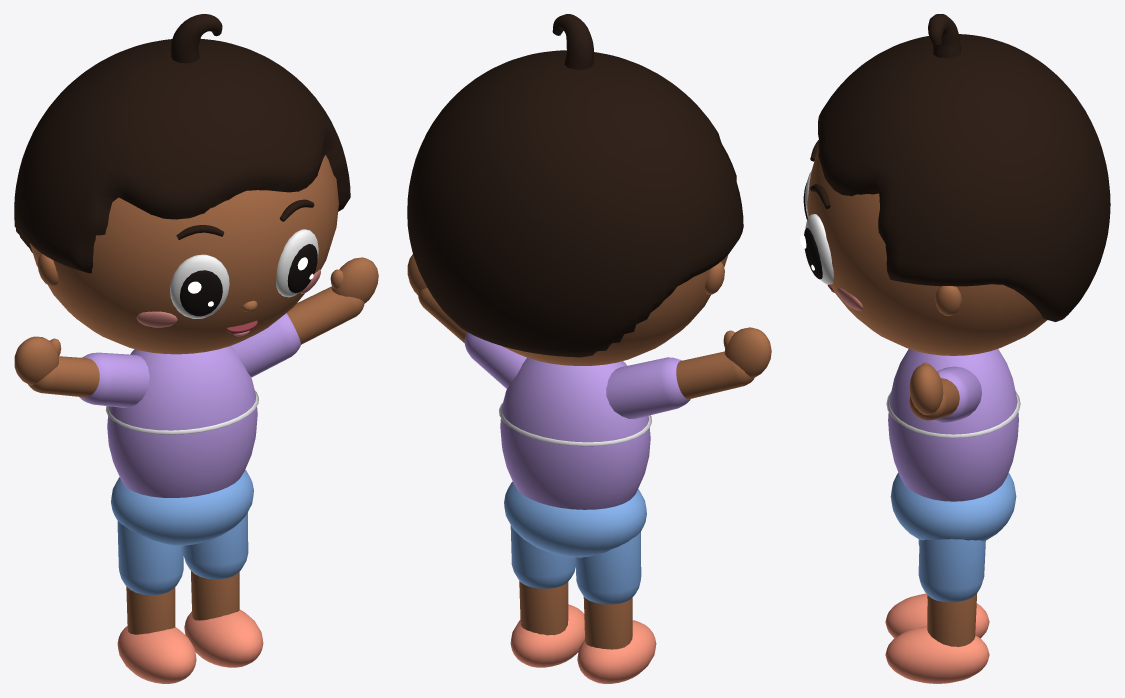
The model's file is child.glb.
3 views of the same model, side by side, from view 1: azimuth 30°, elevation 25°; view 2: azimuth 150°, elevation 25°; view 3: azimuth 270°, elevation 25° (orthographic).
Visible parts, largest first — view 1: child; view 2: child; view 3: child.
Boxes of the visible parts, x1=… form: child: x1=14, y1=14, x2=378, y2=683; child: x1=407, y1=14, x2=771, y2=683; child: x1=800, y1=14, x2=1110, y2=683.
Size of the model in its own units: 0.5845 by 1 by 0.4321.
